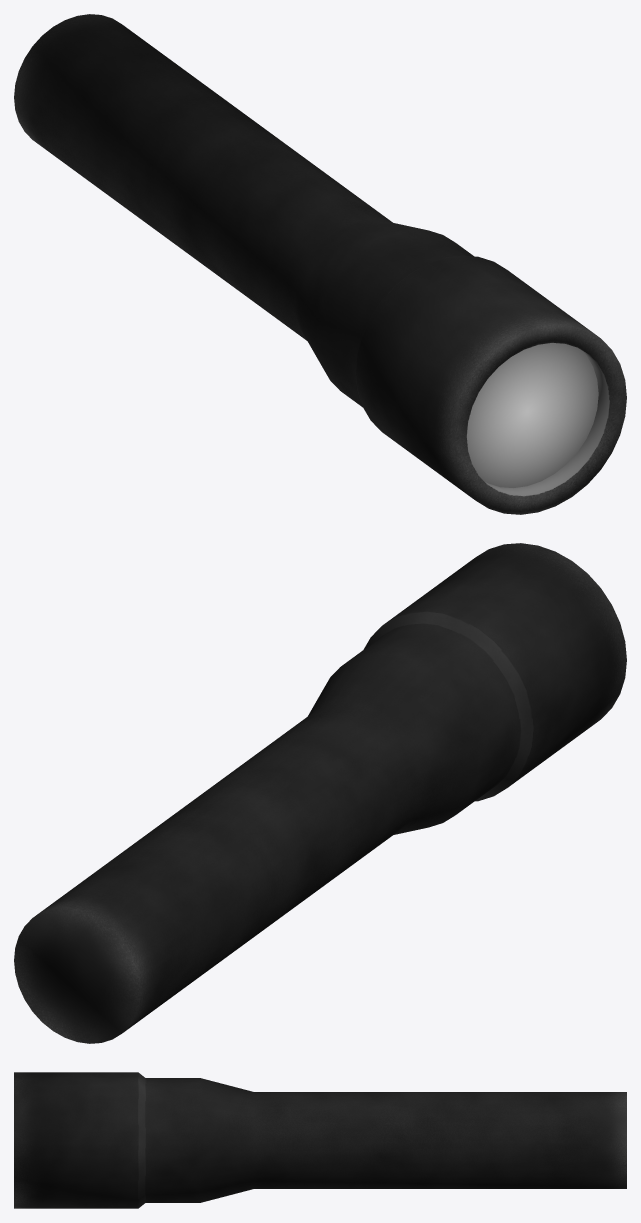
The model's file is low_poly_flashlight.glb.
3 views of the same model, one above another, from view 1: azimuth 30°, elevation 25°; view 2: azimuth 150°, elevation 25°; view 3: azimuth 270°, elevation 25° (orthographic). The views are drawn at different scales.
Parts seen in each view (by area): view 1: Object_4, Object_3, Object_2; view 2: Object_4; view 3: Object_4.
Part boxes in pixels (<box>): Object_4: <box>14,14,626,514</box>; Object_3: <box>467,343,598,487</box>; Object_2: <box>485,350,609,495</box>; Object_4: <box>14,543,626,1043</box>; Object_4: <box>14,1072,626,1208</box>.
Bounding box in the file's own units: 0.8477 × 0.8477 × 3.81.
Materials: 3 (3 with a texture image).
